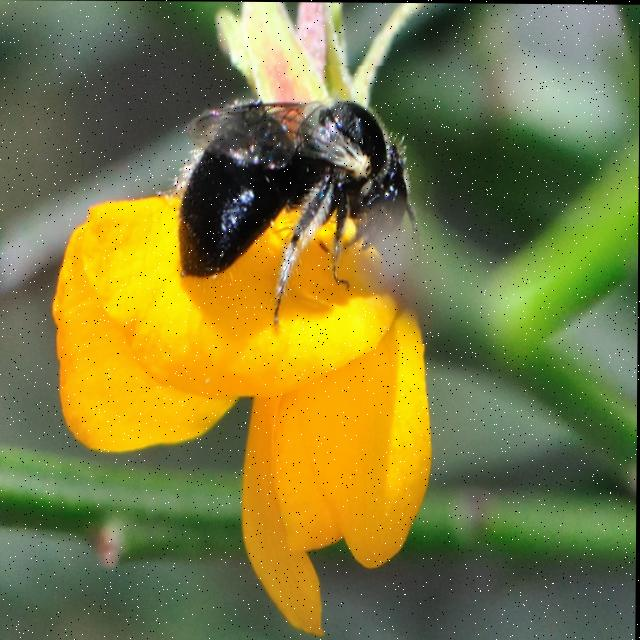Braunsapis: (158, 64, 429, 344)
